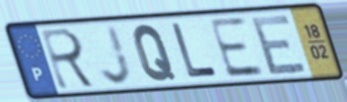E: (206, 15, 268, 81), (249, 11, 310, 77)
J: (98, 23, 135, 88)
L: (169, 20, 221, 81)
Q: (131, 22, 179, 83)
R: (38, 25, 100, 92)
